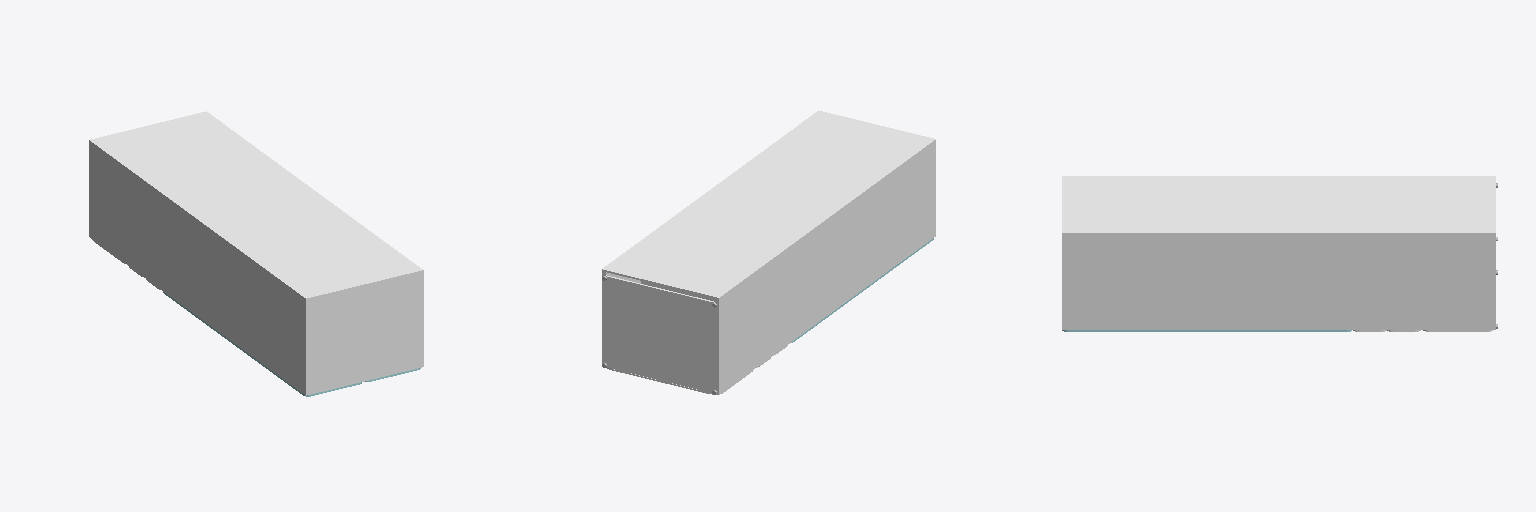
Rendered from StuvaFritidsWardrobe_Blue.obj.
The picture shows the model from 3 angles: view 1: azimuth 30°, elevation 25°; view 2: azimuth 150°, elevation 25°; view 3: azimuth 270°, elevation 25°; orthographic projection.
Parts seen in each view (by area): view 1: obj_0; view 2: obj_0; view 3: obj_0.
Part boxes in pixels (x1,y1,x2,y2): obj_0: (89, 111, 423, 396); obj_0: (602, 110, 935, 394); obj_0: (1062, 176, 1497, 331).
Size of the model in its own units: 60.1 by 50 by 192.